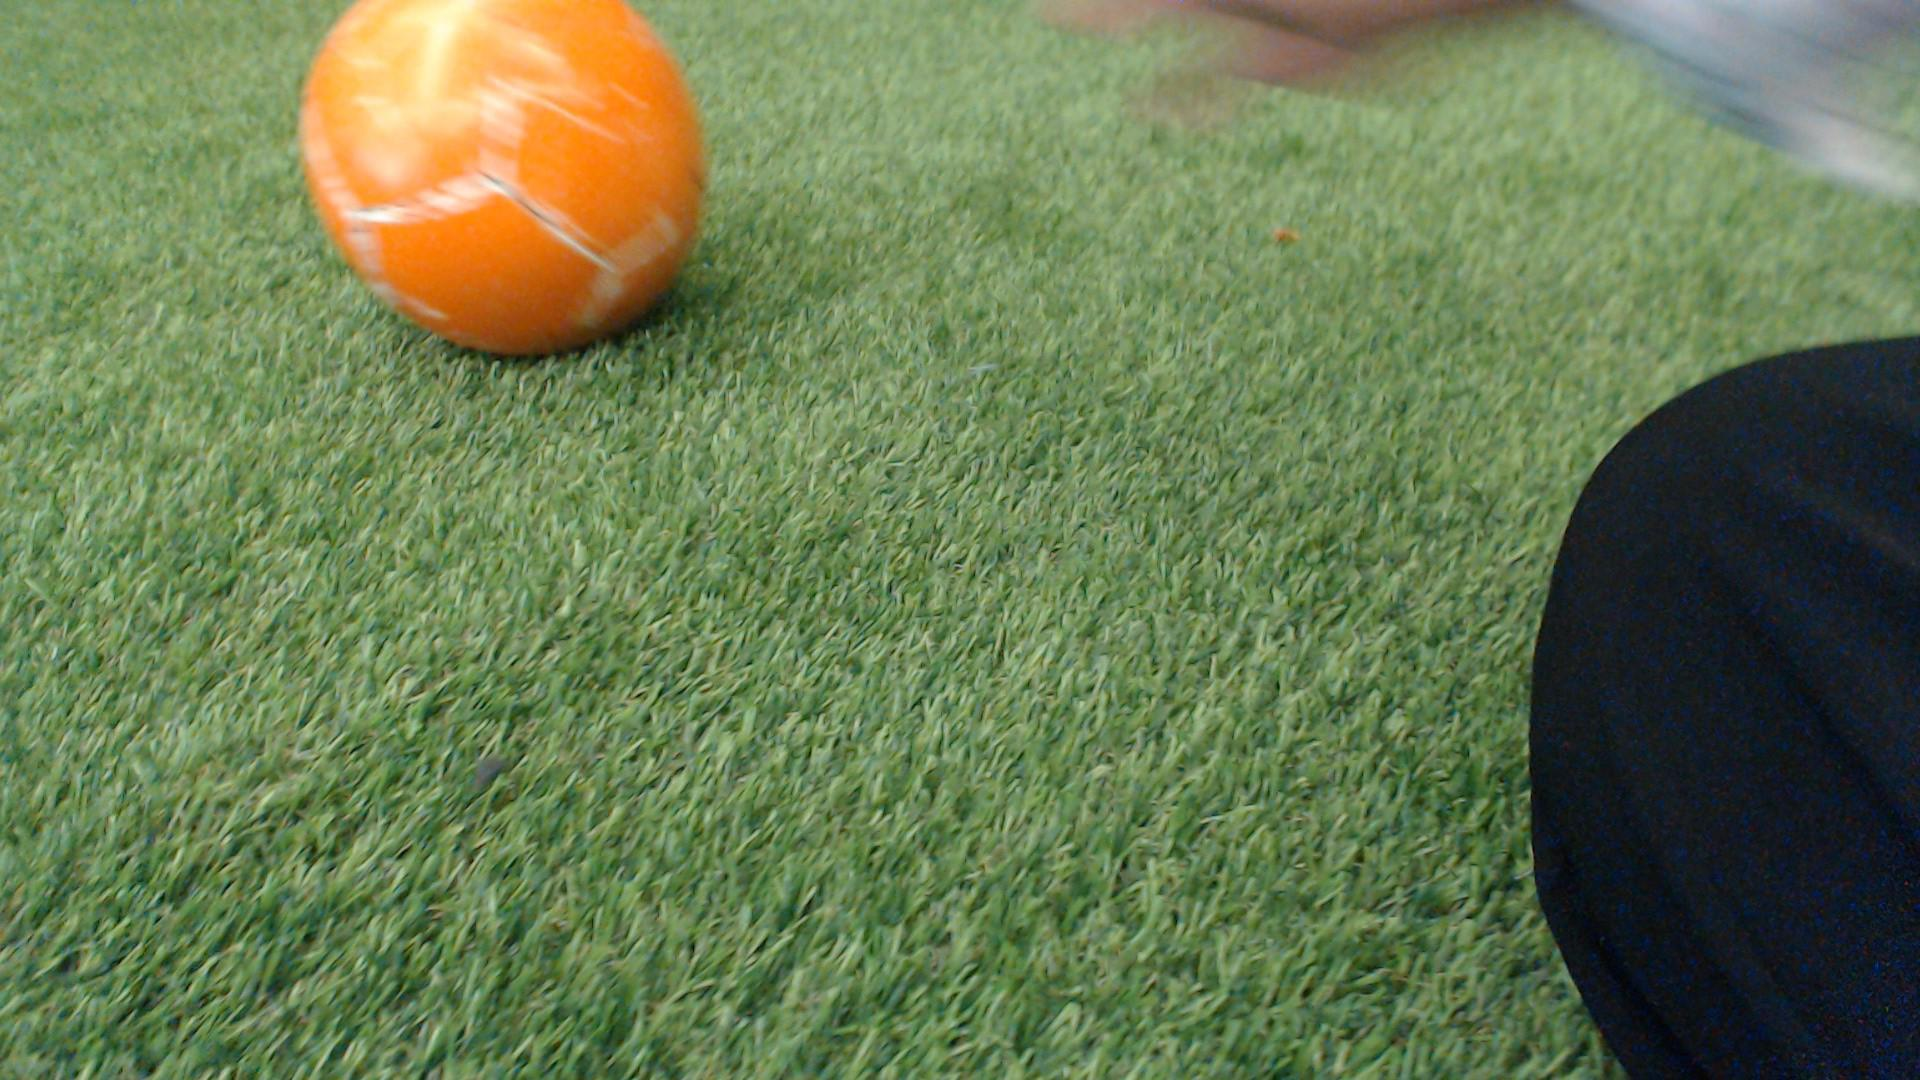bola: (251, 0, 742, 371)
